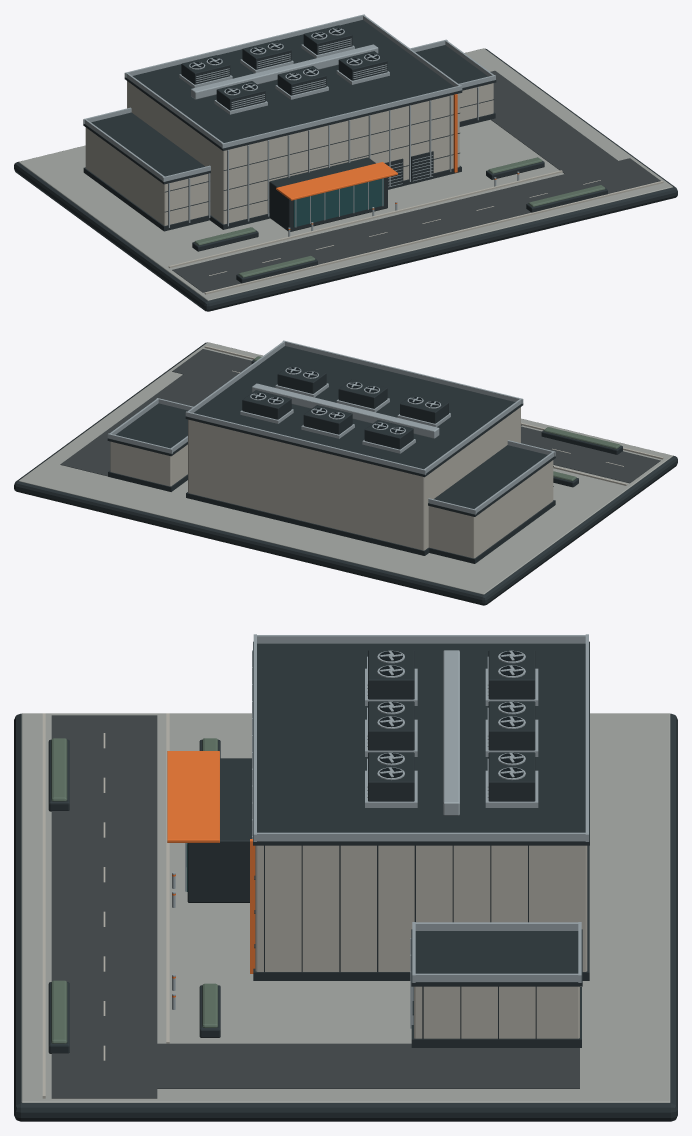
Rendered from homepage-campus.glb.
3 views of the same model, one above another, from view 1: azimuth 30°, elevation 25°; view 2: azimuth 150°, elevation 25°; view 3: azimuth 270°, elevation 25° (orthographic). The views are drawn at different scales.
Parts seen in each view (by area): view 1: Campus_Site_Paving, Campus_Buildings_MainHall_Shell, Campus_Buildings_MainHall_Roof, Campus_Site_FrontAccess, Campus_Buildings, Campus_Site_Foundation, Campus_Site_ServiceAccess, Campus_Buildings_SecondaryHall_Shell, Campus_Buildings_SecondaryHall_Roof, Campus_Site, Campus_Buildings_MainHall_FacadeBays, Campus_Buildings_EntranceGlass (+15 smaller); view 2: Campus_Site_Paving, Campus_Buildings_MainHall_Shell, Campus_Buildings_MainHall_Roof, Campus_Site_Foundation, Campus_Buildings, Campus_Buildings_SecondaryHall_Shell, Campus_Site_FrontAccess, Campus_Buildings_SecondaryHall_Roof, Campus_Site_ServiceAccess, Campus_Buildings_Utility_Shell, Campus_Buildings_Utility_Roof, Campus_Buildings_RoofSpine (+9 smaller); view 3: Campus_Site_Paving, Campus_Buildings_MainHall_Roof, Campus_Site_FrontAccess, Campus_Buildings_MainHall_Shell, Campus_Site_Foundation, Campus_Site_ServiceAccess, Campus_Buildings, Campus_Buildings_Utility_Shell, Campus_Buildings_Utility_Roof, Campus_Buildings_Entrance, Campus_Accents_EntranceCanopy, Campus_Site (+13 smaller).
Part boxes in pixels (box(x1,y1,x2,y2)): Campus_Site_Paving: box(19, 48, 672, 300); Campus_Buildings_MainHall_Shell: box(127, 81, 459, 224); Campus_Buildings_MainHall_Roof: box(124, 20, 462, 150); Campus_Site_FrontAccess: box(172, 158, 660, 292); Campus_Buildings: box(179, 25, 433, 189); Campus_Site_Foundation: box(14, 48, 677, 311); Campus_Site_ServiceAccess: box(490, 70, 617, 173); Campus_Buildings_SecondaryHall_Shell: box(85, 127, 208, 225); Campus_Buildings_SecondaryHall_Roof: box(83, 112, 210, 184); Campus_Site: box(192, 157, 607, 283); Campus_Buildings_MainHall_FacadeBays: box(223, 95, 459, 226); Campus_Buildings_EntranceGlass: box(293, 178, 383, 227); Campus_Site_Paving: box(19, 342, 672, 594); Campus_Buildings_MainHall_Shell: box(188, 407, 520, 550); Campus_Buildings_MainHall_Roof: box(185, 346, 523, 477); Campus_Site_Foundation: box(14, 342, 677, 605); Campus_Buildings: box(240, 364, 450, 453); Campus_Buildings_SecondaryHall_Shell: box(428, 460, 553, 558); Campus_Site_FrontAccess: box(172, 349, 660, 483); Campus_Buildings_SecondaryHall_Roof: box(428, 445, 555, 516); Campus_Site_ServiceAccess: box(60, 374, 224, 476); Campus_Buildings_Utility_Shell: box(110, 441, 187, 486); Campus_Buildings_Utility_Roof: box(107, 403, 187, 456); Campus_Buildings_RoofSpine: box(252, 383, 439, 438); Campus_Site_Paving: box(21, 713, 670, 1102); Campus_Buildings_MainHall_Roof: box(253, 641, 589, 845); Campus_Site_FrontAccess: box(51, 715, 157, 1098); Campus_Buildings_MainHall_Shell: box(255, 845, 587, 971); Campus_Site_Foundation: box(14, 713, 677, 1121); Campus_Site_ServiceAccess: box(157, 1043, 579, 1088); Campus_Buildings: box(365, 650, 538, 807); Campus_Buildings_Utility_Shell: box(414, 986, 579, 1038); Campus_Buildings_Utility_Roof: box(411, 929, 582, 986); Campus_Buildings_Entrance: box(187, 758, 251, 902); Campus_Accents_EntranceCanopy: box(167, 751, 219, 842); Campus_Site: box(48, 738, 220, 1053).
Bounding box in the file's own units: 62 × 13.72 × 44.
